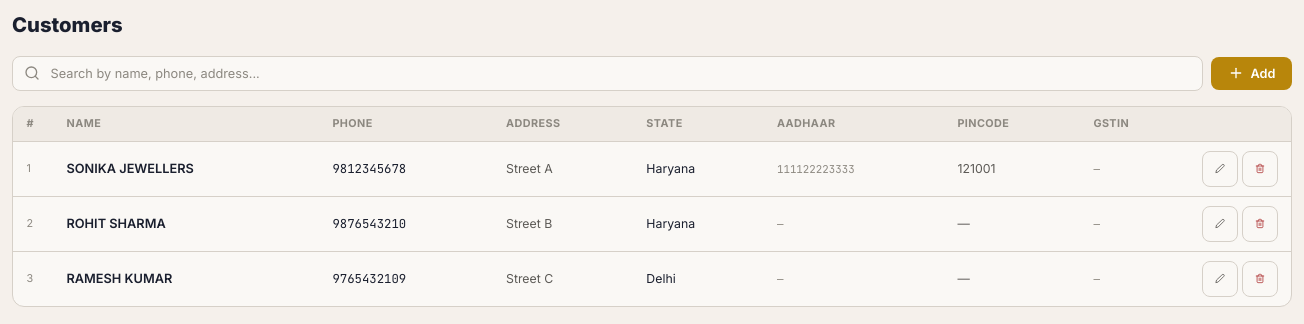
Test: CustomersPage search › filters customers as the user types a name
The image size is (1304, 324).
Expected: the text "SONIKA JEWELLERS" is shown, [53,141,319,196]
Type "ROHIT" into the field with placeholder "Search by name, phone, address...".
click(608, 73); type("ROHIT")  # box [12,56,1203,91]
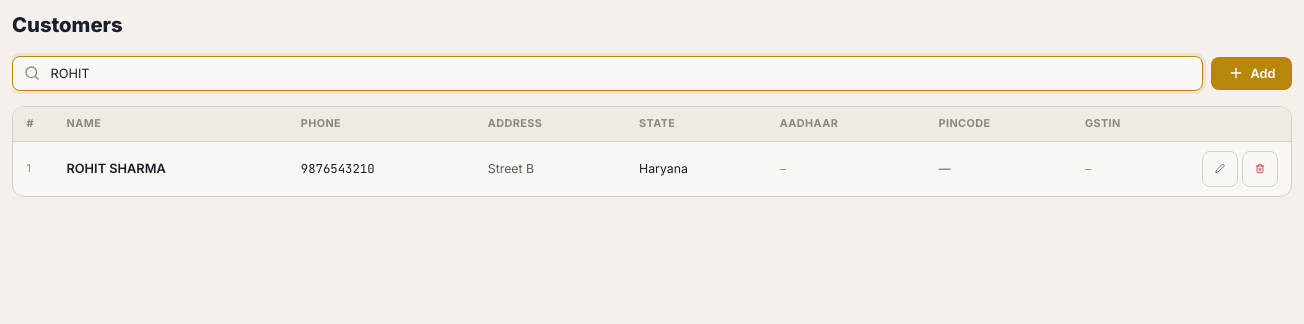
Expected: the text "ROHIT SHARMA" is shown, [53,141,287,196]
Expected: the text "SONIKA JEWELLERS" is gone
Expected: the text "RAMESH KUMAR" is gone
